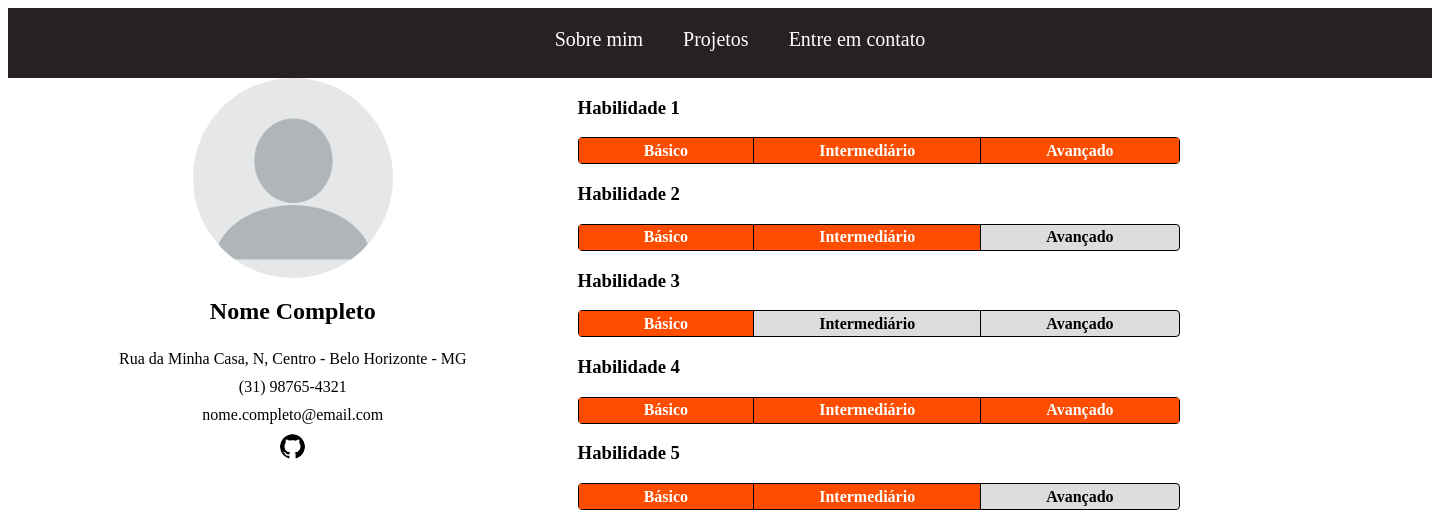
Test: routes › navigating from home to projects
Expected: the heading "Nome Completo" is shown, [210, 298, 376, 325]
What coordinates should you click on to do the following:
click the link "Projetos"
I would click on:
 (716, 39)
Its box is [683, 28, 749, 50].
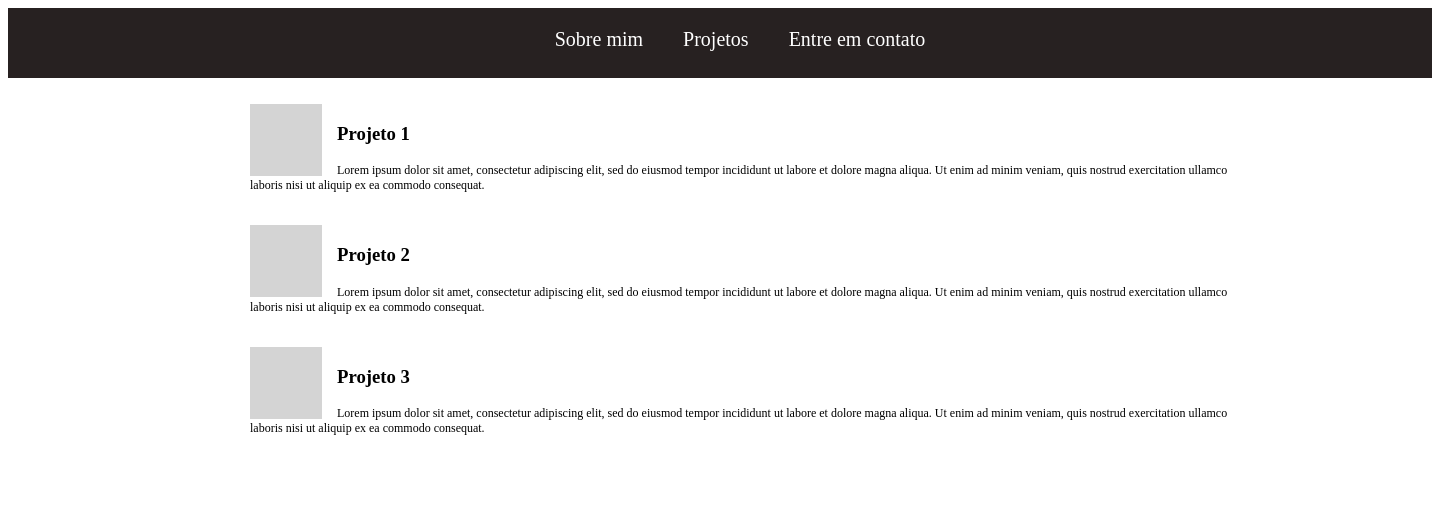
Expected: the heading "Projeto 1" is shown, [337, 123, 410, 144]
